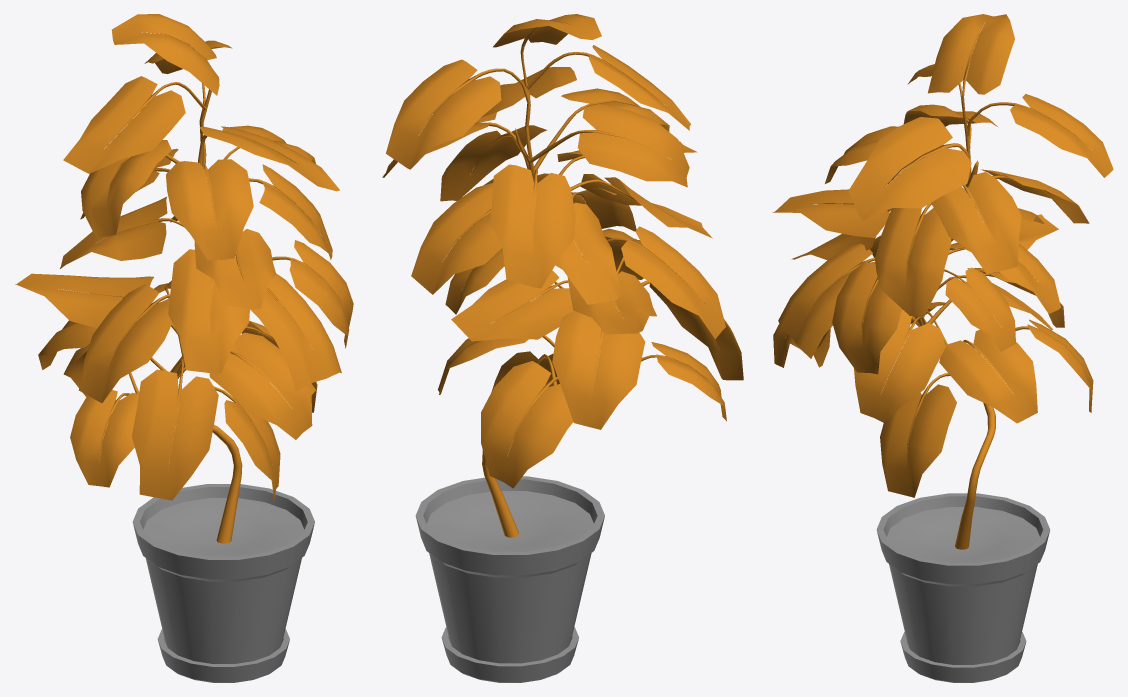
File: SM_Plant_01_B.FBX
3 renders of one model, left to right at view 1: azimuth 30°, elevation 25°; view 2: azimuth 150°, elevation 25°; view 3: azimuth 270°, elevation 25°, orthographic. The views are drawn at different scales.
Visible parts, largest first — view 1: SM_Plant_01_B; view 2: SM_Plant_01_B; view 3: SM_Plant_01_B.
Part boxes in pixels (left/top/right/bottom): SM_Plant_01_B: left=15, top=14, right=353, bottom=682; SM_Plant_01_B: left=382, top=14, right=743, bottom=682; SM_Plant_01_B: left=772, top=14, right=1113, bottom=682.
Size of what is drawn, in the model's own units: 52.77 by 114 by 57.97.
